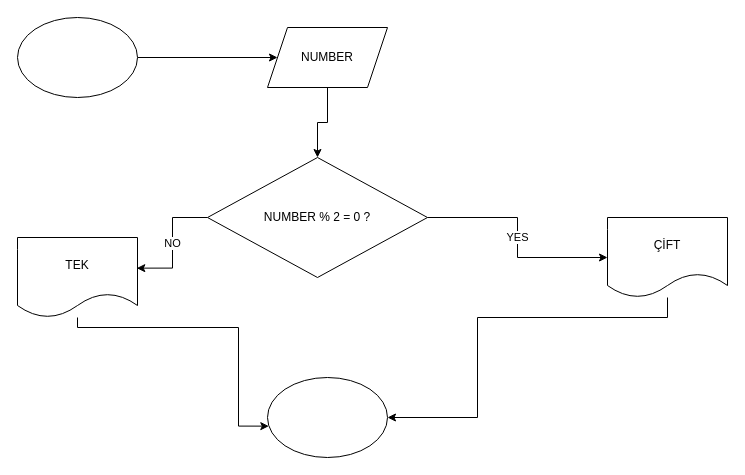
The diagram is 745 pixels wide and 475 high, and some of its shapes have lost their labels. The box of each missing label's shape, as (x1, y1, x2, y2) in pixels:
FINISH: (266, 376, 388, 458)
START: (16, 16, 138, 98)
